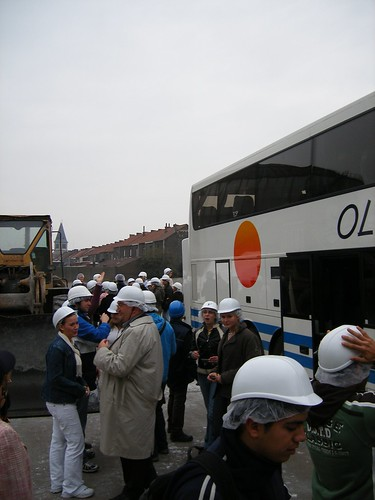person hardhat: (184, 355, 321, 500), (309, 316, 375, 500), (109, 286, 167, 490), (46, 307, 105, 493), (70, 284, 110, 465), (213, 293, 259, 423), (167, 299, 201, 449), (139, 288, 169, 456), (195, 297, 225, 427), (102, 281, 120, 311), (87, 277, 102, 306), (90, 272, 110, 288), (152, 277, 164, 300), (172, 280, 186, 299), (160, 272, 170, 293), (140, 271, 150, 288), (164, 267, 174, 280)
